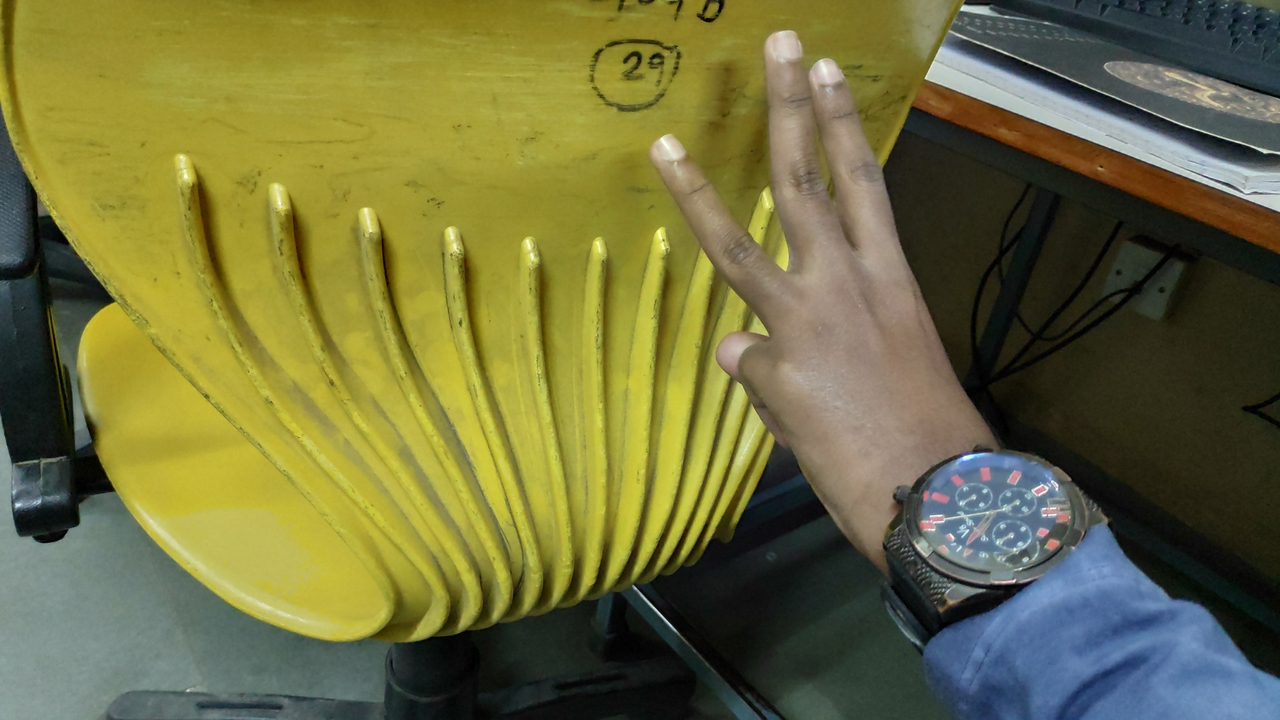fingertip: (642, 118, 702, 174), (751, 33, 804, 70), (807, 53, 853, 95)
